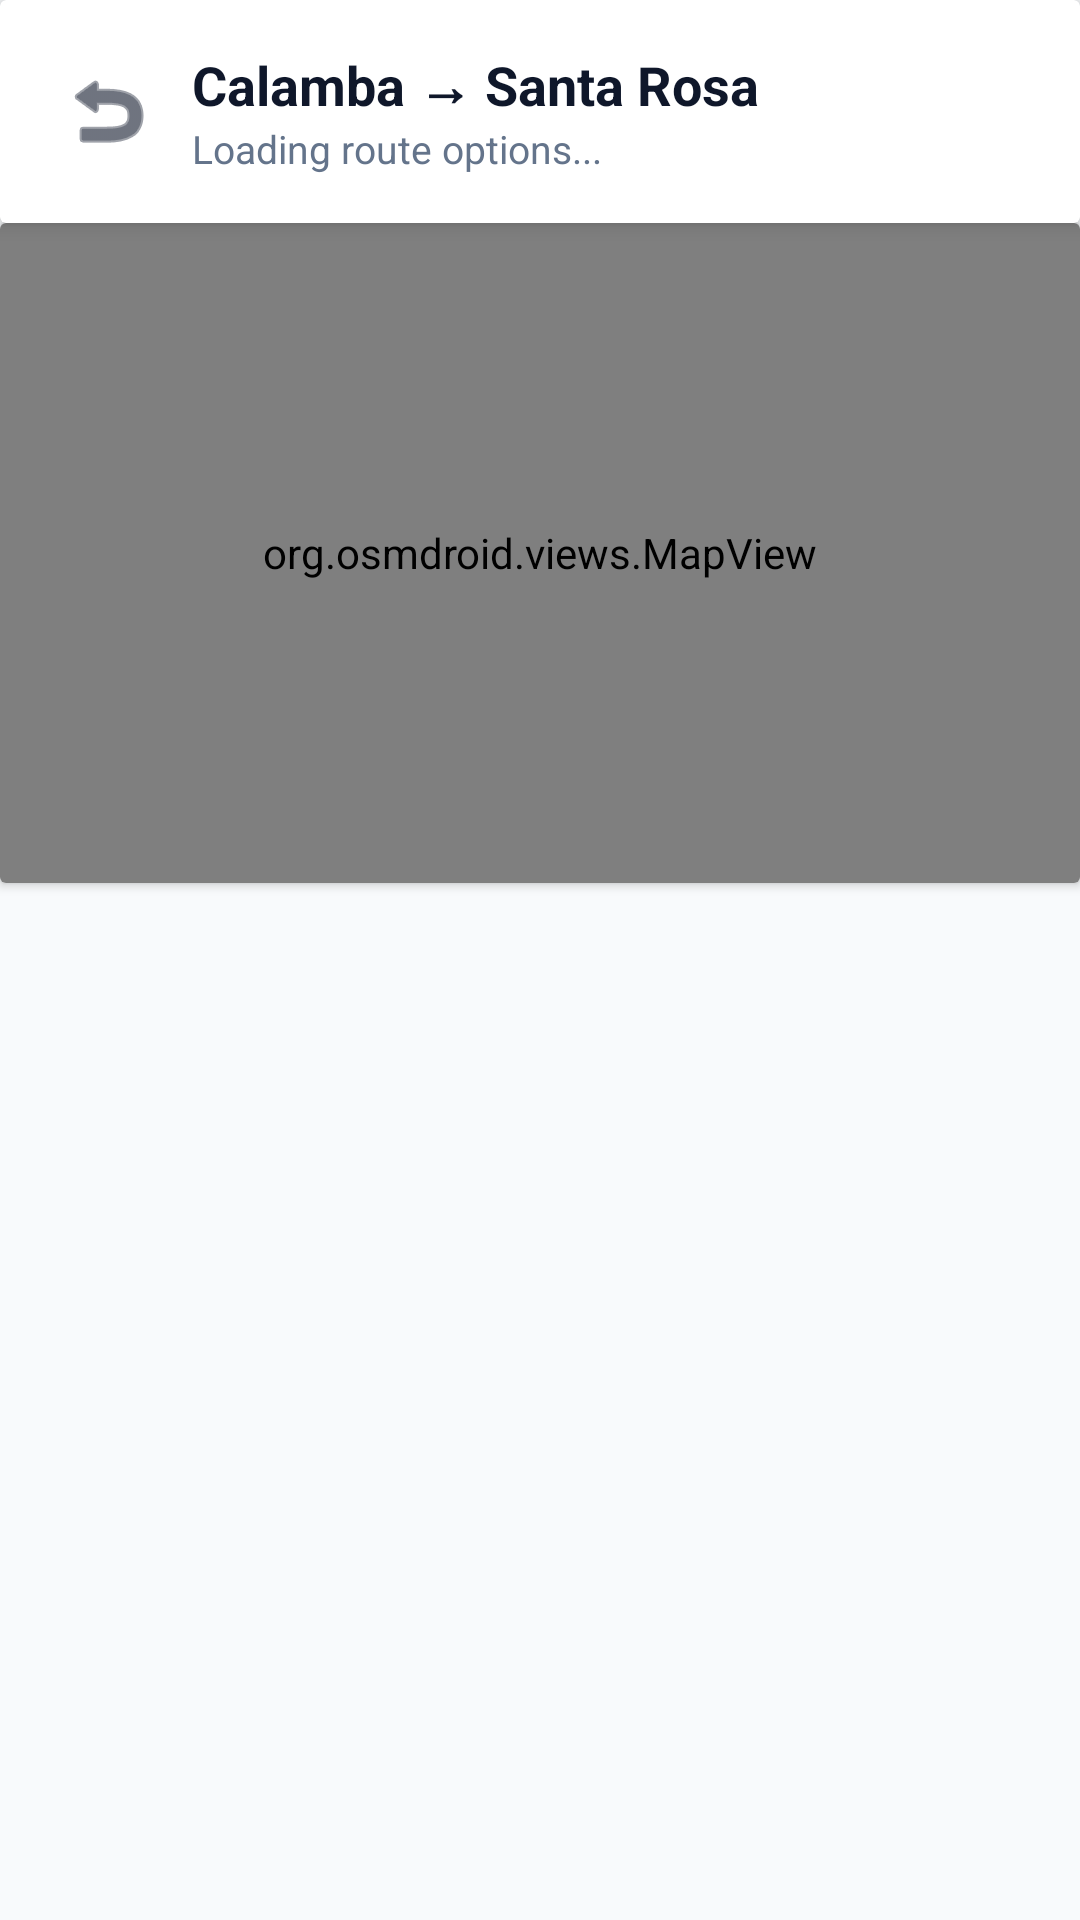

Locate icon controls on the screen. Image size 1080 x 1920, boxes as (x1, y1, x2, y2).
revert: (75, 80, 144, 143)
